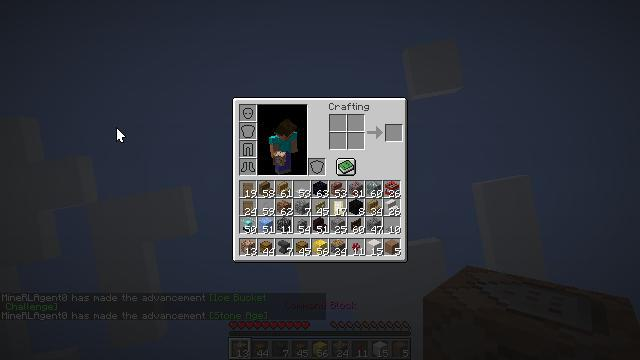cursor: (127, 116, 143, 126)
